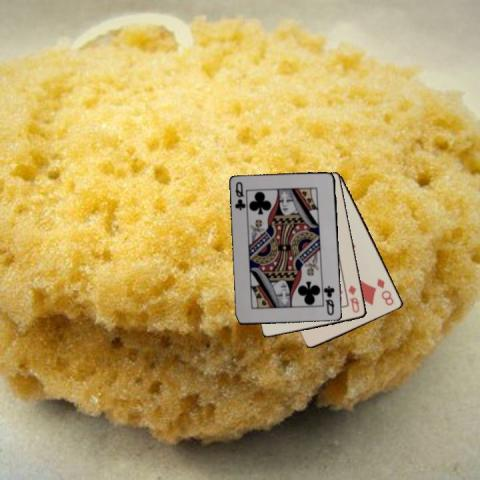8d: (374, 275, 395, 307)
Qc: (232, 179, 247, 212), (322, 283, 336, 317)
Qd: (345, 282, 361, 314)
